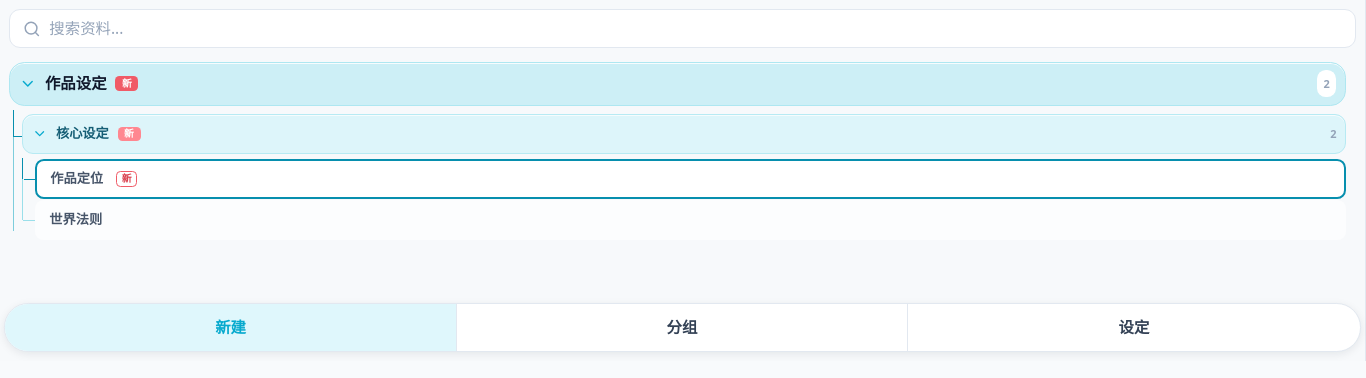
Scenario: WorkbenchSettingTreeSidebar › returns to the top and removes the end reserve when every first-level domain is collapsed
Step 1. Click the button with aria-label "作品设定2" → (76, 83), box left=9, top=62, right=1346, bottom=106
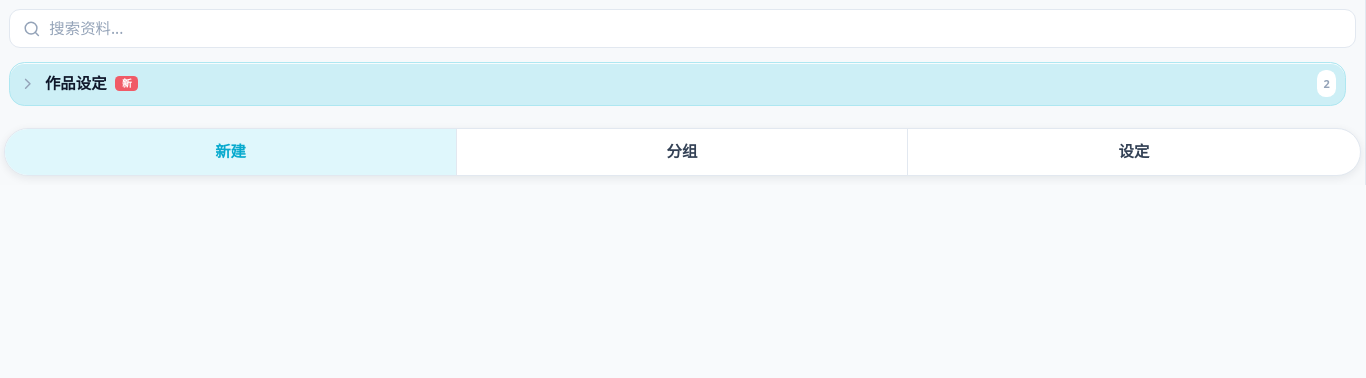
Result: the button with aria-label "作品设定2" is collapsed at left=9, top=62, right=1346, bottom=106
